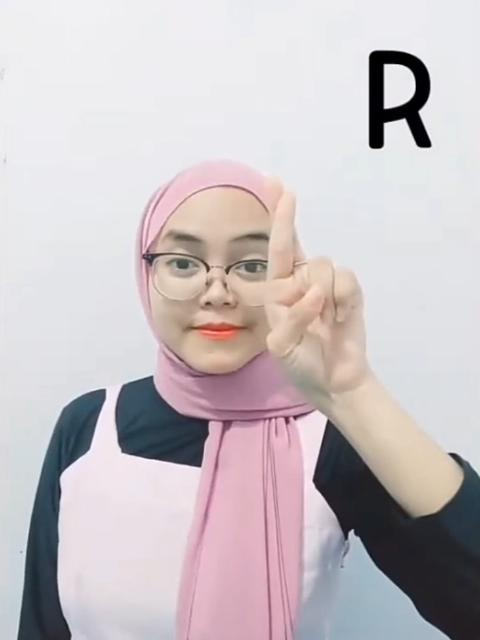R: (255, 170, 386, 398)
